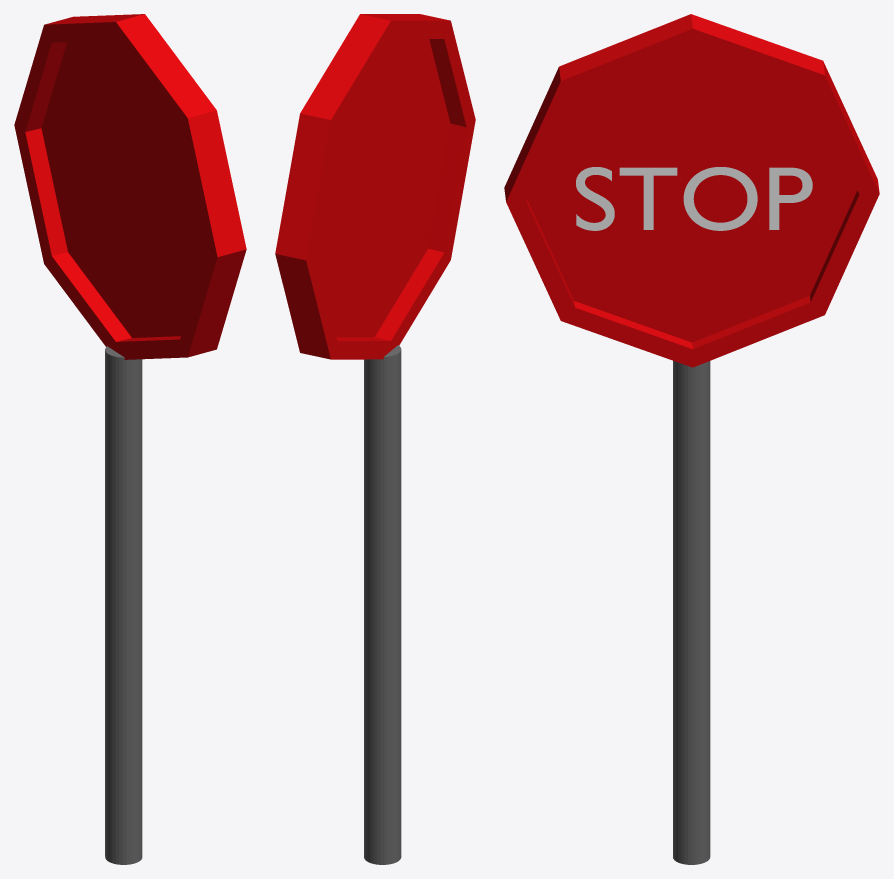
The model's file is StopSign.fbx.
3 views of the same model, side by side, from view 1: azimuth 30°, elevation 25°; view 2: azimuth 150°, elevation 25°; view 3: azimuth 270°, elevation 25° (orthographic).
Visible parts, largest first — view 1: Cylinder.001, Cylinder; view 2: Cylinder.001, Cylinder; view 3: Cylinder.001, Cylinder, Text.
Part boxes in pixels (x1,y1,x2,y2): Cylinder.001: (14, 14, 246, 359); Cylinder: (105, 346, 142, 864); Cylinder.001: (275, 14, 475, 359); Cylinder: (364, 345, 401, 864); Cylinder.001: (504, 14, 879, 367); Cylinder: (673, 361, 710, 864); Text: (576, 167, 812, 230).
Bounding box in the file's own units: 29.02 × 495 × 201.
